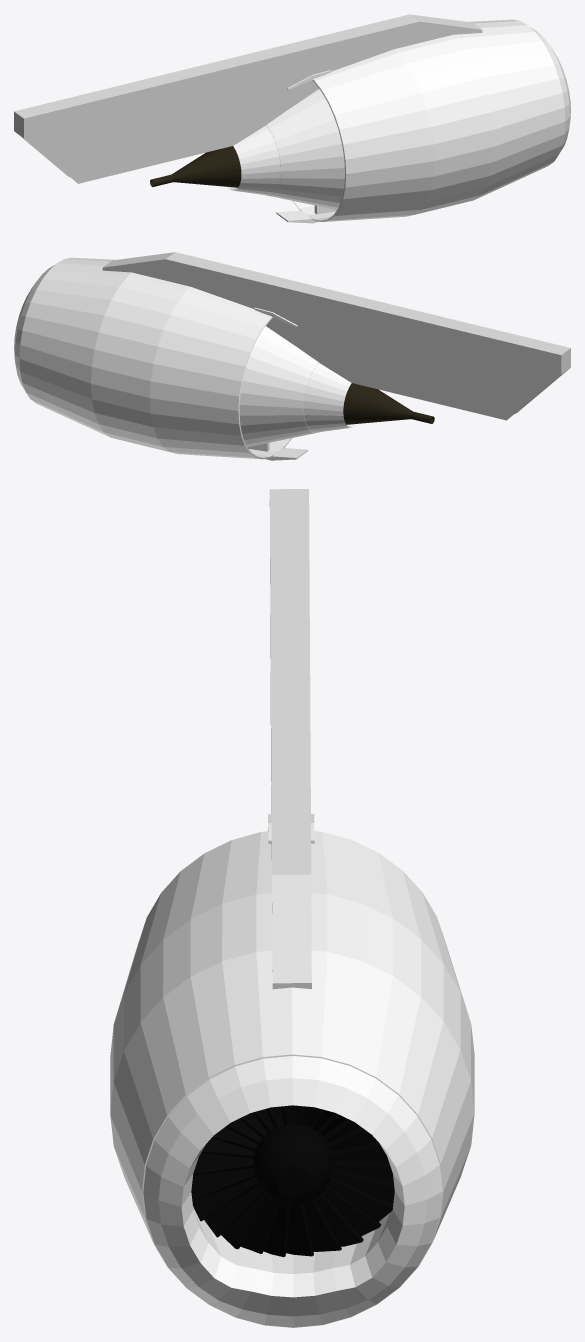
3 renders of one model, top to bottom at view 1: azimuth 30°, elevation 25°; view 2: azimuth 150°, elevation 25°; view 3: azimuth 270°, elevation 25°, orthographic. The views are drawn at different scales.
Parts seen in each view (by area): view 1: 円柱, 立方体.003, 円柱.004, 円柱.005, 円柱.006, 円柱.003, 立方体.001; view 2: 円柱, 立方体.003, 円柱.004, 円柱.005, 円柱.006, 円柱.003, 立方体.001; view 3: 円柱, 円柱.003, 円柱.007, 立方体.003.
Part boxes in pixels (x1=…): 円柱: x1=293, y1=19, x2=565, y2=221; 立方体.003: x1=14, y1=14, x2=482, y2=183; 円柱.004: x1=265, y1=89, x2=344, y2=209; 円柱.005: x1=226, y1=125, x2=280, y2=195; 円柱.006: x1=150, y1=146, x2=241, y2=187; 円柱.003: x1=530, y1=27, x2=570, y2=153; 立方体.001: x1=276, y1=210, x2=319, y2=223; 円柱: x1=19, y1=257, x2=291, y2=459; 立方体.003: x1=102, y1=252, x2=570, y2=420; 円柱.004: x1=239, y1=326, x2=318, y2=446; 円柱.005: x1=304, y1=363, x2=358, y2=432; 円柱.006: x1=343, y1=383, x2=434, y2=424; 円柱.003: x1=14, y1=265, x2=54, y2=390; 立方体.001: x1=265, y1=448, x2=307, y2=460; 円柱: x1=110, y1=831, x2=474, y2=1327; 円柱.003: x1=143, y1=1056, x2=442, y2=1327; 円柱.007: x1=191, y1=1105, x2=394, y2=1256; 立方体.003: x1=269, y1=489, x2=311, y2=989.
Size of the model in its own units: 11.86 by 4.02 by 3.58.
